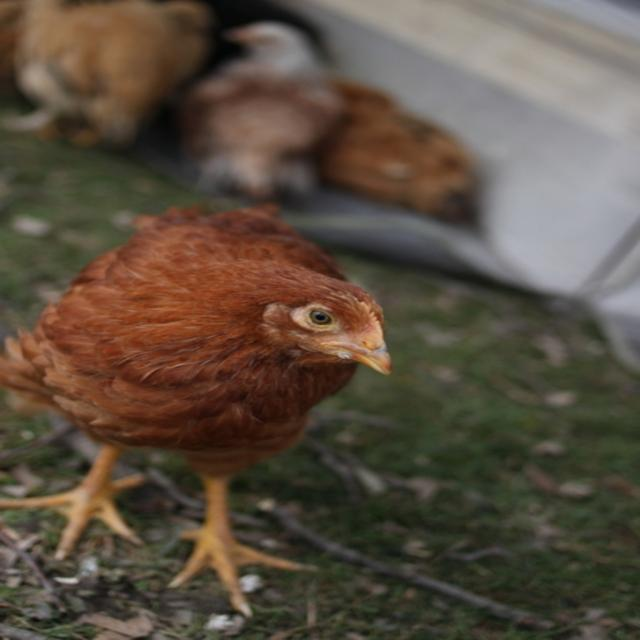Chicken: (14, 198, 398, 620)
